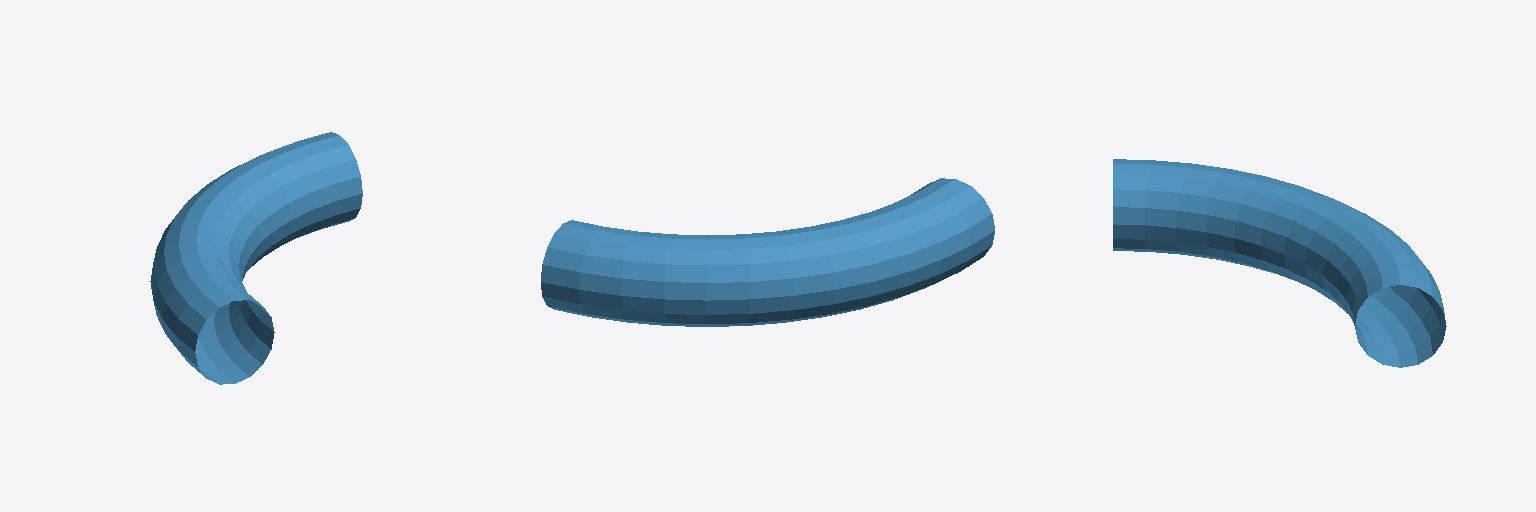
Rendered from pipe-curve-3.obj.
3 views of the same model, side by side, from view 1: azimuth 30°, elevation 25°; view 2: azimuth 150°, elevation 25°; view 3: azimuth 270°, elevation 25° (orthographic).
Visible parts, largest first — view 1: Torus; view 2: Torus; view 3: Torus.
Part boxes in pixels (x1,y1,x2,y2): Torus: (150,132,362,384); Torus: (541,178,994,326); Torus: (1113,159,1446,367).
Size of the model in its own units: 2.9 by 0.8 by 2.9.